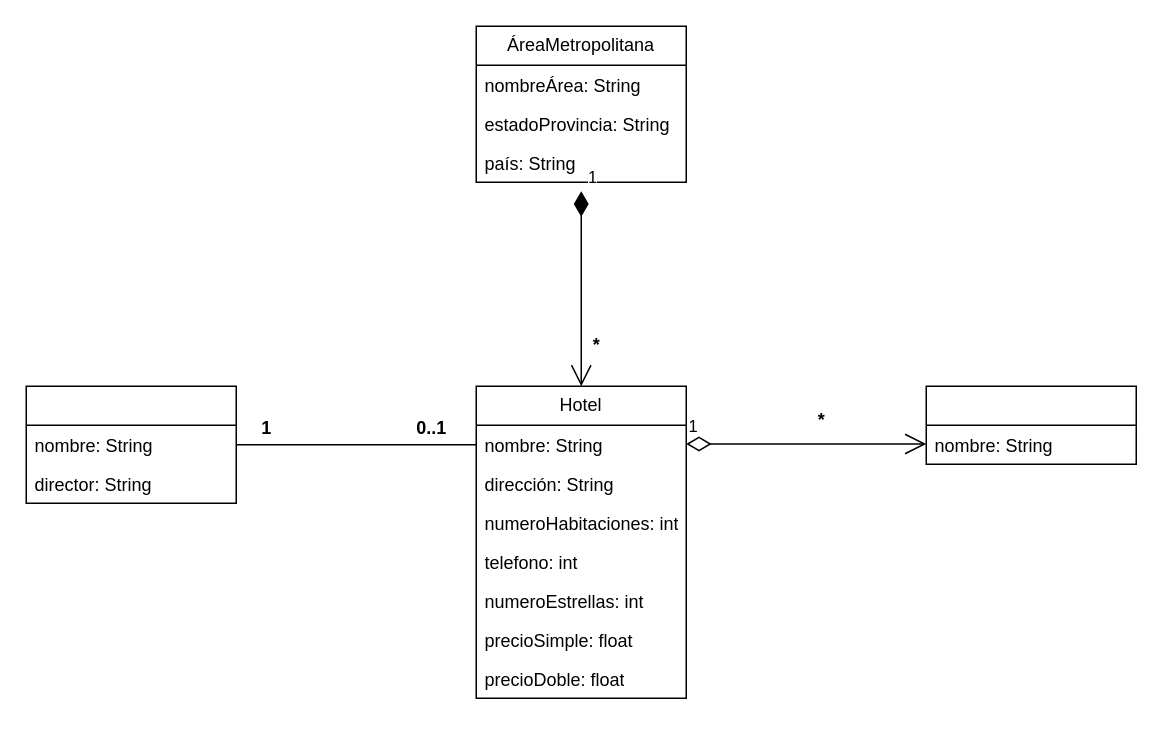
The diagram is 1163 pixels wide and 729 high, and some of its shapes have lost their labels. Here are the shapes that lost their labels. From the top down, the box of each, then its label:
(25, 385, 236, 503): CadenaHotelera
(925, 385, 1136, 464): TarjetaCredito
